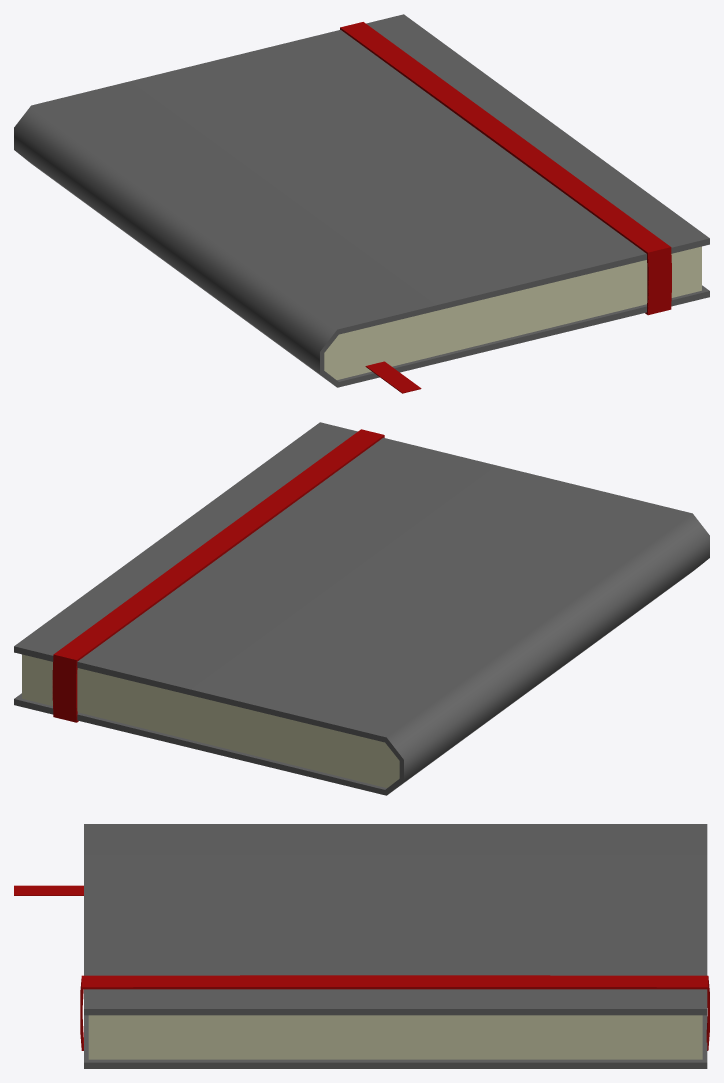
The model's file is LobbyNotebook01_MDL_mxy.fbx.
The picture shows the model from 3 angles, top to bottom: view 1: azimuth 30°, elevation 25°; view 2: azimuth 150°, elevation 25°; view 3: azimuth 270°, elevation 25°; orthographic projection.
Visible parts, largest first — view 1: pCylinder12, pCylinder13, pCylinder14, pCylinder15, pCube4; view 2: pCylinder12, pCylinder13, pCylinder15, pCylinder14; view 3: pCylinder12, pCylinder13, pCylinder14, pCylinder15, pCube4.
Part boxes in pixels (x1,y1,x2,y2): pCylinder12: [14, 14, 709, 387]; pCylinder13: [324, 246, 701, 379]; pCylinder14: [494, 134, 671, 315]; pCylinder15: [340, 22, 516, 141]; pCube4: [365, 361, 421, 393]; pCylinder12: [14, 422, 709, 795]; pCylinder13: [22, 654, 399, 787]; pCylinder15: [52, 541, 230, 722]; pCylinder14: [207, 429, 384, 548]; pCylinder12: [84, 824, 707, 1068]; pCylinder13: [88, 1015, 702, 1059]; pCylinder14: [80, 975, 394, 1050]; pCylinder15: [395, 975, 709, 1050]; pCube4: [14, 885, 83, 895].
Size of the model in its own units: 0.2924 by 0.0453 by 0.444.
